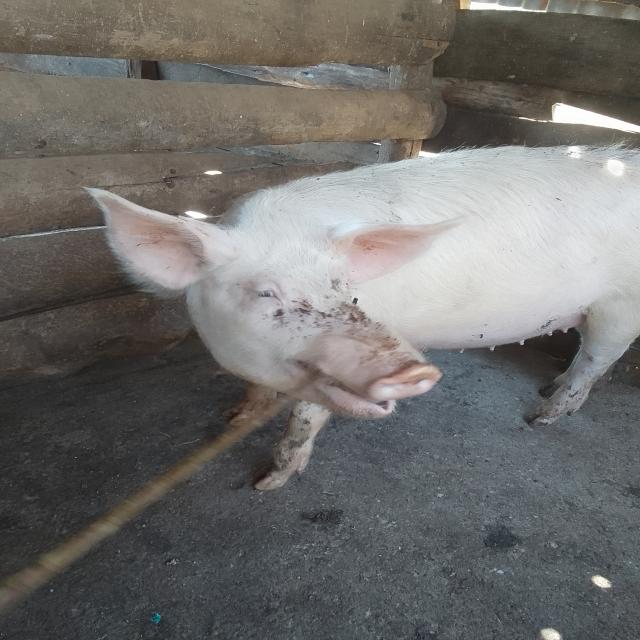pig: (50, 85, 640, 558)
